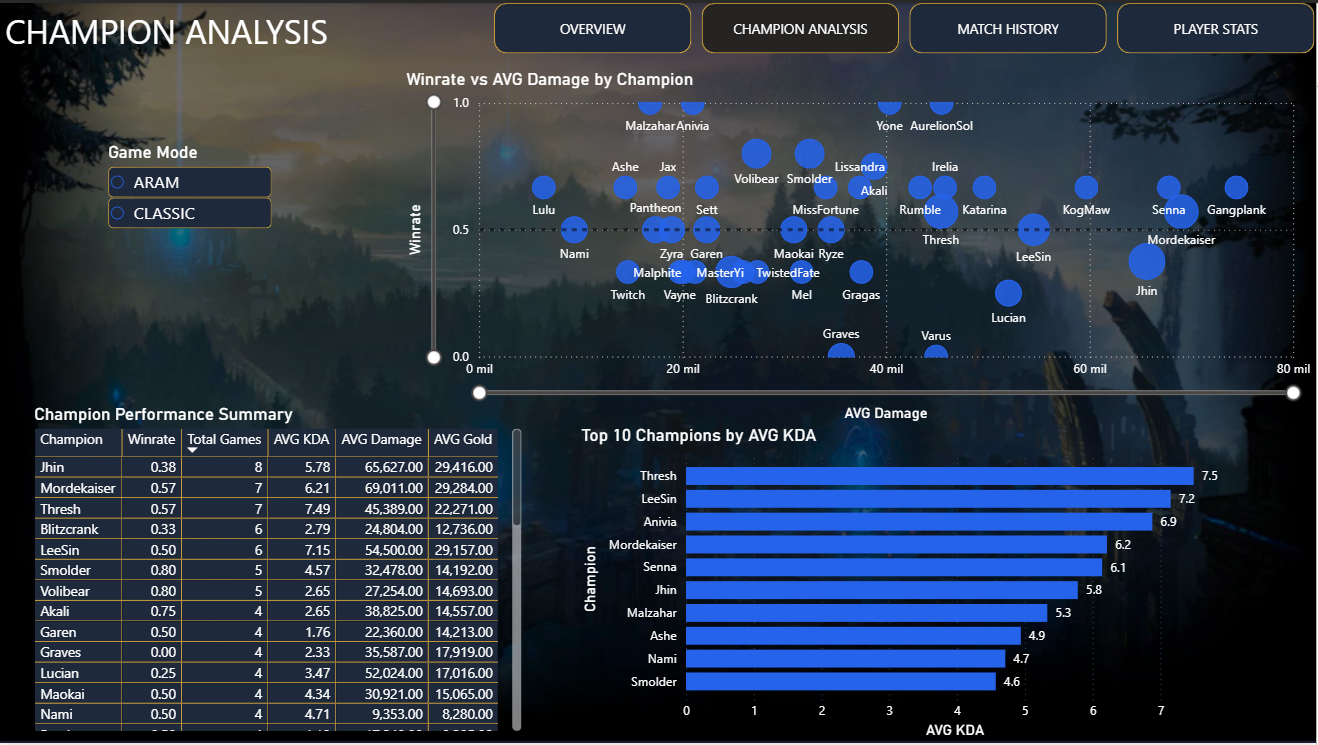

Layout of this report page (visuals, bound fields, positions):
{"tool":"powerbi","page":{"name":"CHAMPION ANALYSIS","canvas":[1280,720],"ordinal":1},"visuals":[{"type":"listSlicer","fields":{"Values":["champion_stats.game_mode"]},"box":[100.4,135.1,169.8,158.2],"z":0},{"type":"tableEx","title":"Champion Performance Summary","fields":{"Values":["champion_stats.champion_name","champion_stats.Champion Winrate","Sum(champion_stats.total_games)","Sum(champion_stats.avg_kda)","Sum(champion_stats.avg_damage)","Sum(champion_stats.avg_gold)"]},"box":[28.4,390.2,483.6,322.7],"z":1000},{"type":"scatterChart","title":"Winrate vs AVG Damage by Champion","fields":{"X":["Sum(champion_stats.avg_damage)"],"Size":["Sum(champion_stats.total_games)"],"Category":["champion_stats.champion_name"],"Y":["champion_stats.Champion Winrate"]},"box":[390.2,64,889.8,346.7],"z":2000},{"type":"clusteredBarChart","title":"Top 10 Champions by AVG KDA","fields":{"Category":["champion_stats.champion_name"],"Y":["Sum(champion_stats.avg_kda)"]},"box":[560,410.7,640,309.3],"z":3000},{"type":"textbox","box":[0,0,327.8,91.4],"z":4000},{"type":"pageNavigator","box":[480,0,800,49.8],"z":5000}]}

Visuals, with their boxes in screenshot pixels (x1, y1, x2, y2), scaled from the page's 1280x720 canvas onto the 1318x745 screenshot:
listSlicer - champion_stats.game_mode: box(103, 140, 278, 303)
"Champion Performance Summary" tableEx: box(29, 404, 527, 738)
"Winrate vs AVG Damage by Champion" scatterChart: box(402, 66, 1317, 425)
"Top 10 Champions by AVG KDA" clusteredBarChart: box(577, 425, 1236, 744)
textbox: box(0, 0, 338, 95)
pageNavigator: box(494, 0, 1317, 52)
